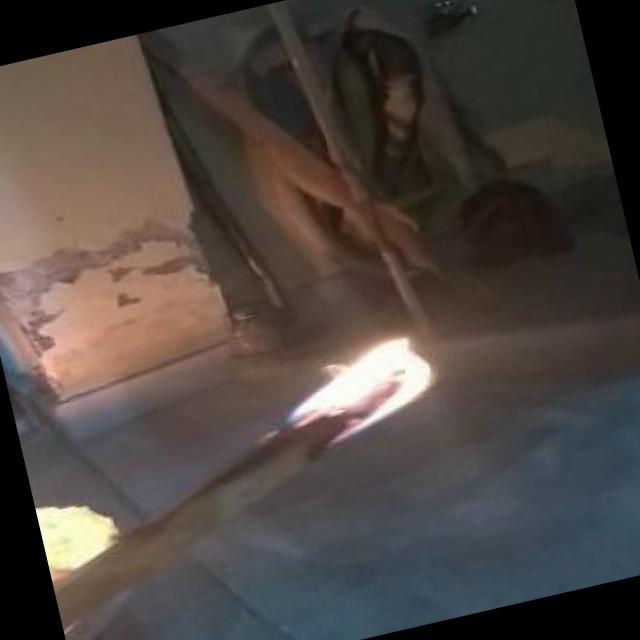fire: (246, 288, 471, 472)
